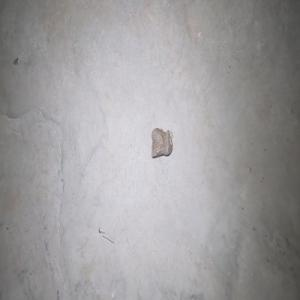Rock: (150, 126, 172, 158)
